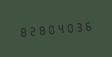eight: (17, 23, 26, 39), (37, 21, 46, 37)
four: (57, 19, 66, 36)
six: (87, 17, 96, 33)
three: (77, 18, 86, 34)
two: (27, 22, 36, 38)
zero: (47, 20, 56, 36), (67, 19, 76, 35)
